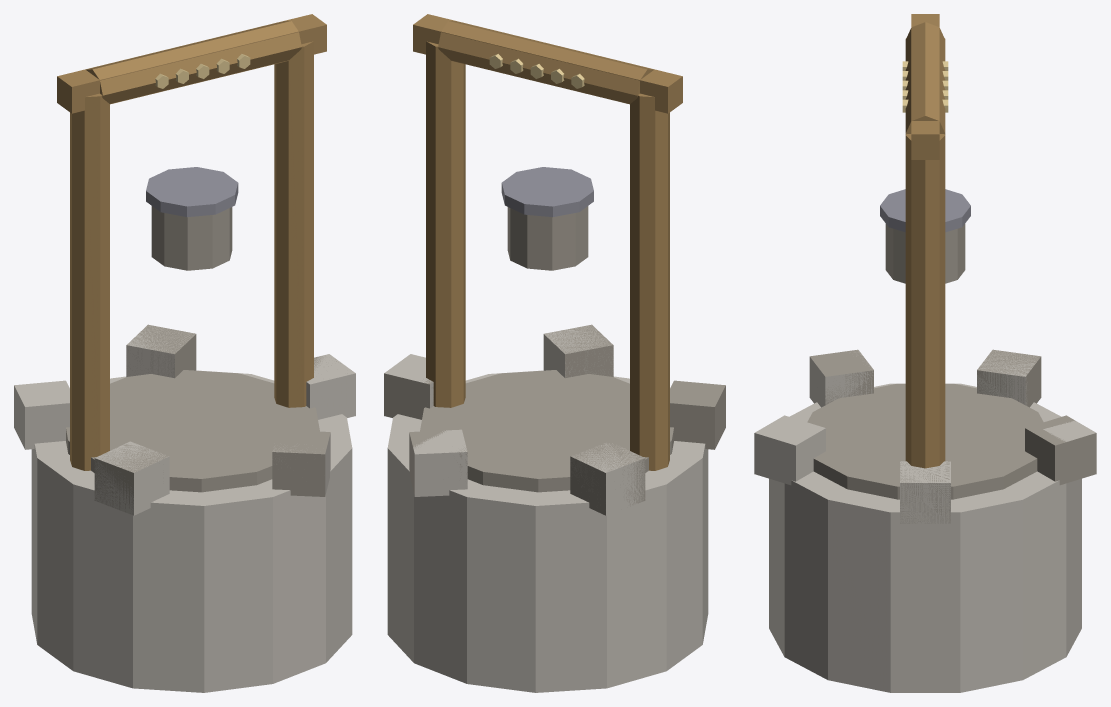
Rendered from well.glb.
3 renders of one model, left to right at view 1: azimuth 30°, elevation 25°; view 2: azimuth 150°, elevation 25°; view 3: azimuth 270°, elevation 25°, orthographic. The views are drawn at different scales.
Parts seen in each view (by area): view 1: Cylinder, Cylinder.001, Cylinder.003, Cylinder.004, Cylinder.005, Cylinder.011, Cube.008, Cylinder.012, Cube.009, Cube.002, Cube.010, Cube (+3 smaller); view 2: Cylinder, Cylinder.001, Cylinder.003, Cylinder.004, Cylinder.005, Cylinder.011, Cylinder.012, Cube.003, Cube.007, Cube.006, Cube.010, Cube.002 (+5 smaller); view 3: Cylinder, Cylinder.001, Cylinder.004, Cylinder.005, Cube.004, Cube.001, Cube, Cube.007, Cylinder.011, Cube.002, Cube.003, Cylinder.012 (+4 smaller).
Part boxes in pixels (box(x1,y1,x2,y2)): Cylinder: box(31, 370, 352, 692); Cylinder.001: box(66, 370, 319, 492); Cylinder.003: box(70, 93, 109, 470); Cylinder.004: box(274, 41, 313, 407); Cylinder.005: box(86, 21, 301, 103); Cylinder.011: box(151, 206, 232, 270); Cube.008: box(94, 441, 169, 515); Cylinder.012: box(146, 167, 238, 217); Cube.009: box(272, 429, 330, 496); Cube.002: box(14, 380, 69, 449); Cube.010: box(57, 14, 326, 113); Cube: box(306, 354, 355, 419); Cylinder: box(387, 370, 708, 692); Cylinder.001: box(420, 370, 673, 492); Cylinder.003: box(630, 93, 669, 470); Cylinder.004: box(426, 41, 465, 407); Cylinder.005: box(438, 21, 653, 103); Cylinder.011: box(507, 206, 588, 270); Cylinder.012: box(501, 167, 593, 217); Cube.003: box(670, 380, 725, 449); Cube.007: box(570, 441, 645, 515); Cube.006: box(413, 429, 467, 496); Cube.010: box(413, 14, 682, 113); Cube.002: box(570, 443, 645, 515); Cylinder: box(769, 383, 1081, 692); Cylinder.001: box(807, 383, 1043, 499); Cylinder.004: box(905, 134, 945, 468); Cylinder.005: box(905, 22, 945, 134); Cube.004: box(754, 415, 825, 485); Cube.001: box(1025, 415, 1096, 485); Cube: box(900, 461, 950, 523); Cube.007: box(977, 349, 1041, 407); Cylinder.011: box(885, 224, 965, 283); Cube.002: box(977, 350, 1039, 405); Cube.003: box(810, 350, 873, 405); Cylinder.012: box(880, 189, 970, 232).
Bounding box in the file's own units: 1.13 × 2.17 × 1.2.
